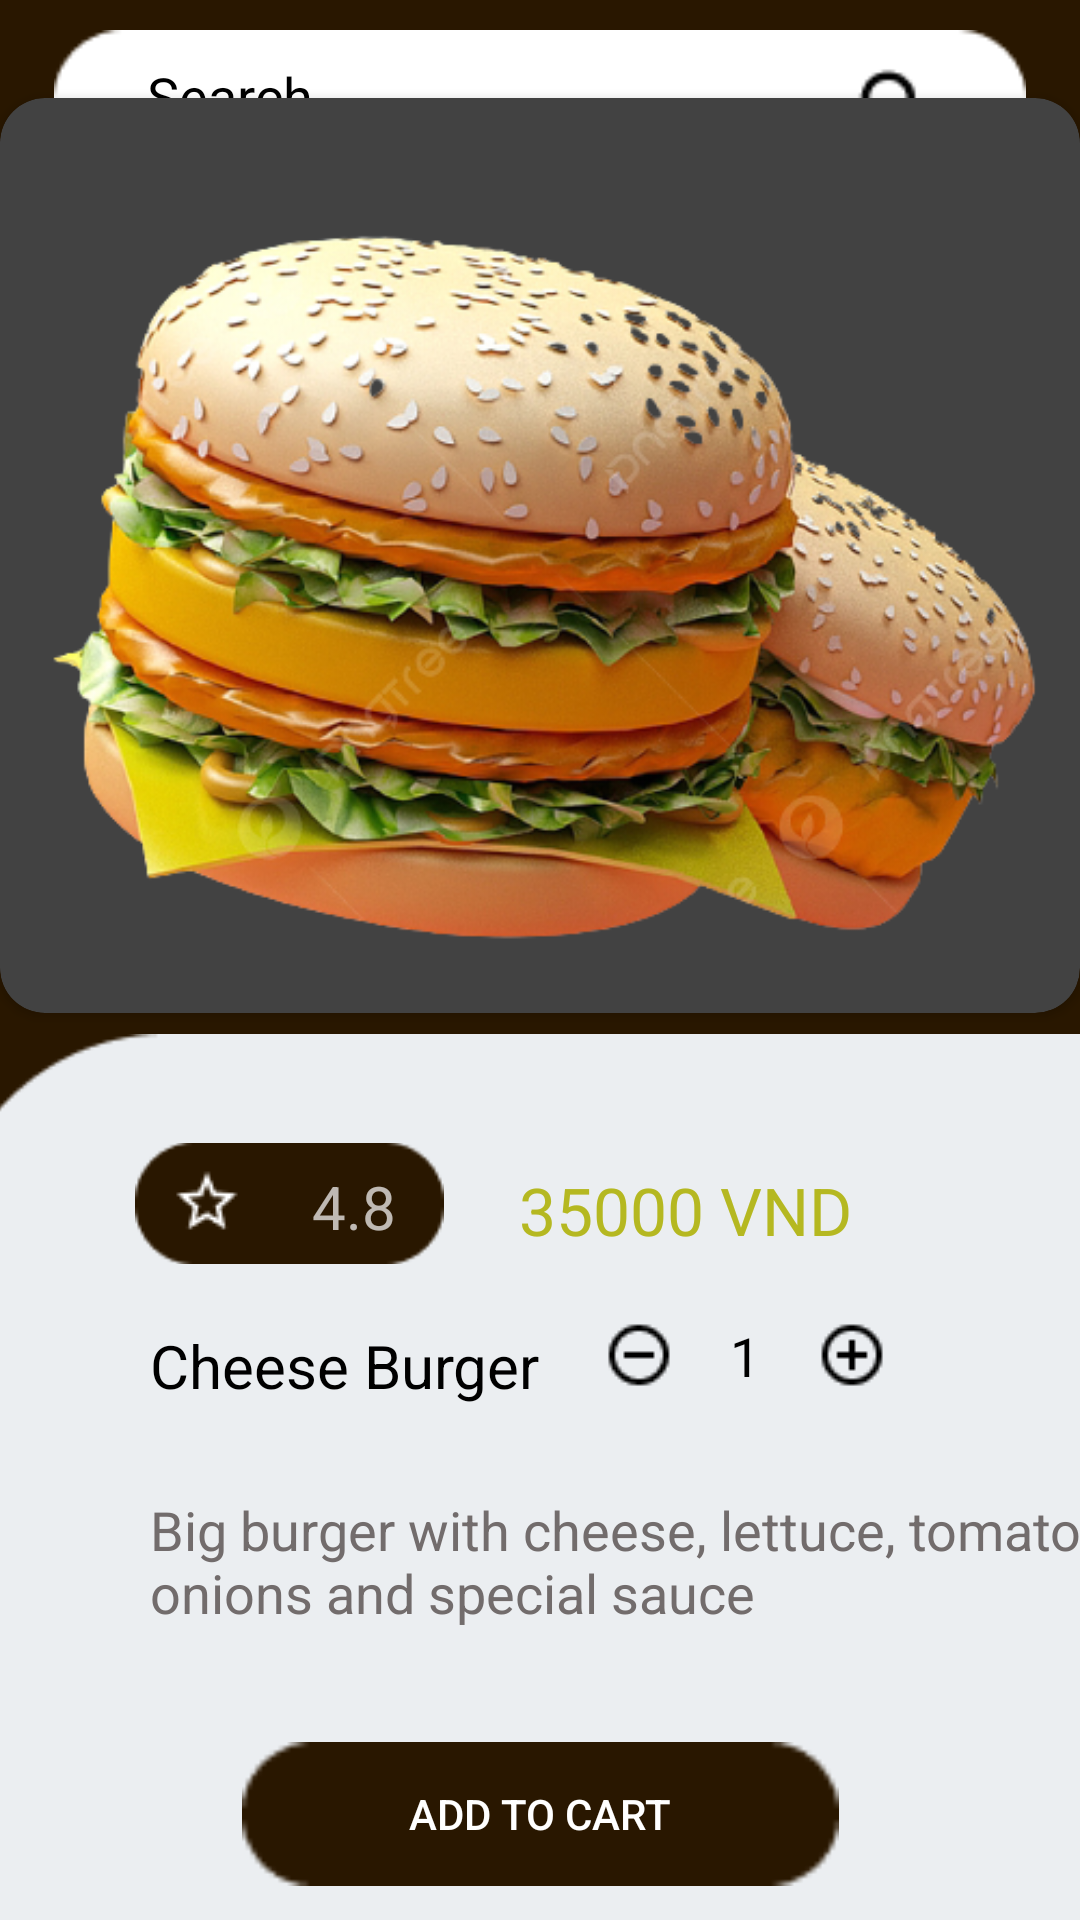

Icon click points for this 1080 × 1920 phone screenshot, format [x,y]:
minus circle: [639,1355]
star: [207,1201]
symbols add circle sharp: [852,1355]
